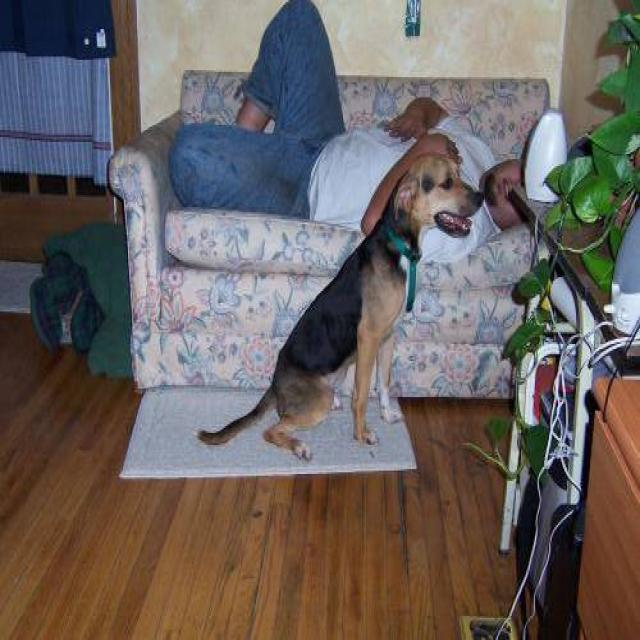dog: (196, 151, 484, 462)
